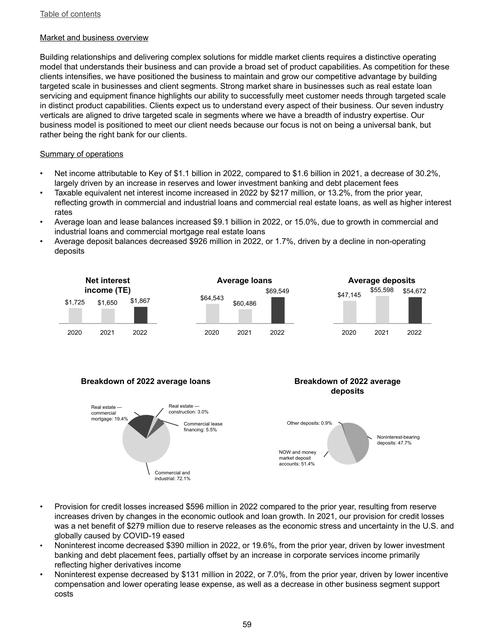box: (80, 376, 227, 488), (279, 376, 420, 472), (53, 272, 158, 339), (194, 274, 297, 339), (332, 275, 432, 340)
